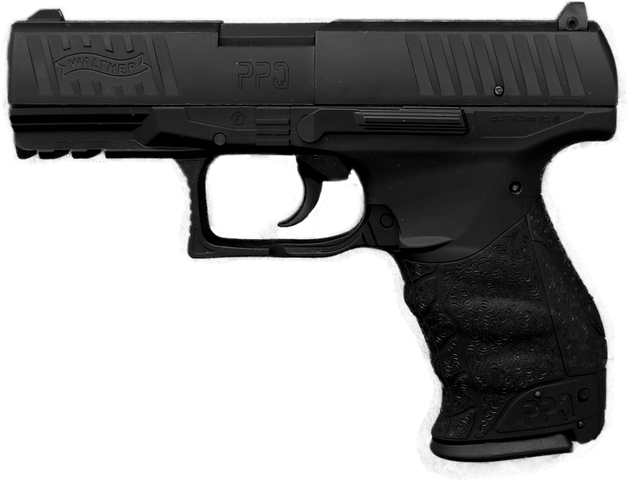gun: (4, 6, 628, 469)
